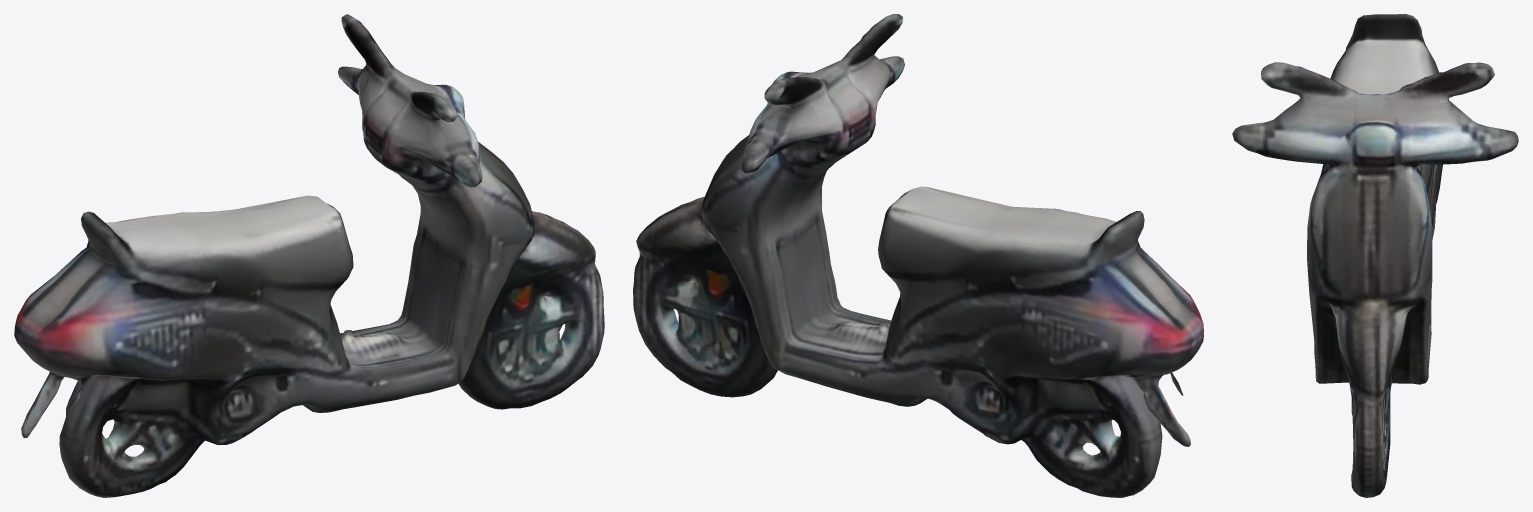
File: activa.glb
The picture shows the model from 3 angles, left to right: view 1: azimuth 30°, elevation 25°; view 2: azimuth 150°, elevation 25°; view 3: azimuth 270°, elevation 25°; orthographic projection. The views are drawn at different scales.
Visible parts, largest first — view 1: Object_2; view 2: Object_2; view 3: Object_2.
Boxes of the visible parts, box(x1,y1,x2,y2) form: Object_2: box(14, 14, 604, 497); Object_2: box(633, 14, 1203, 497); Object_2: box(1232, 14, 1518, 497).
Bounding box in the file's own units: 1.8 × 1.14 × 0.8009.
1 material, 1 textured.
